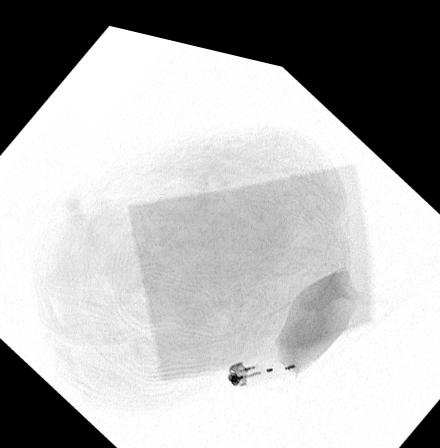Lighter: (226, 336, 301, 375)
